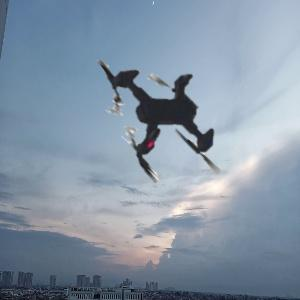drone: (44, 2, 275, 233)
